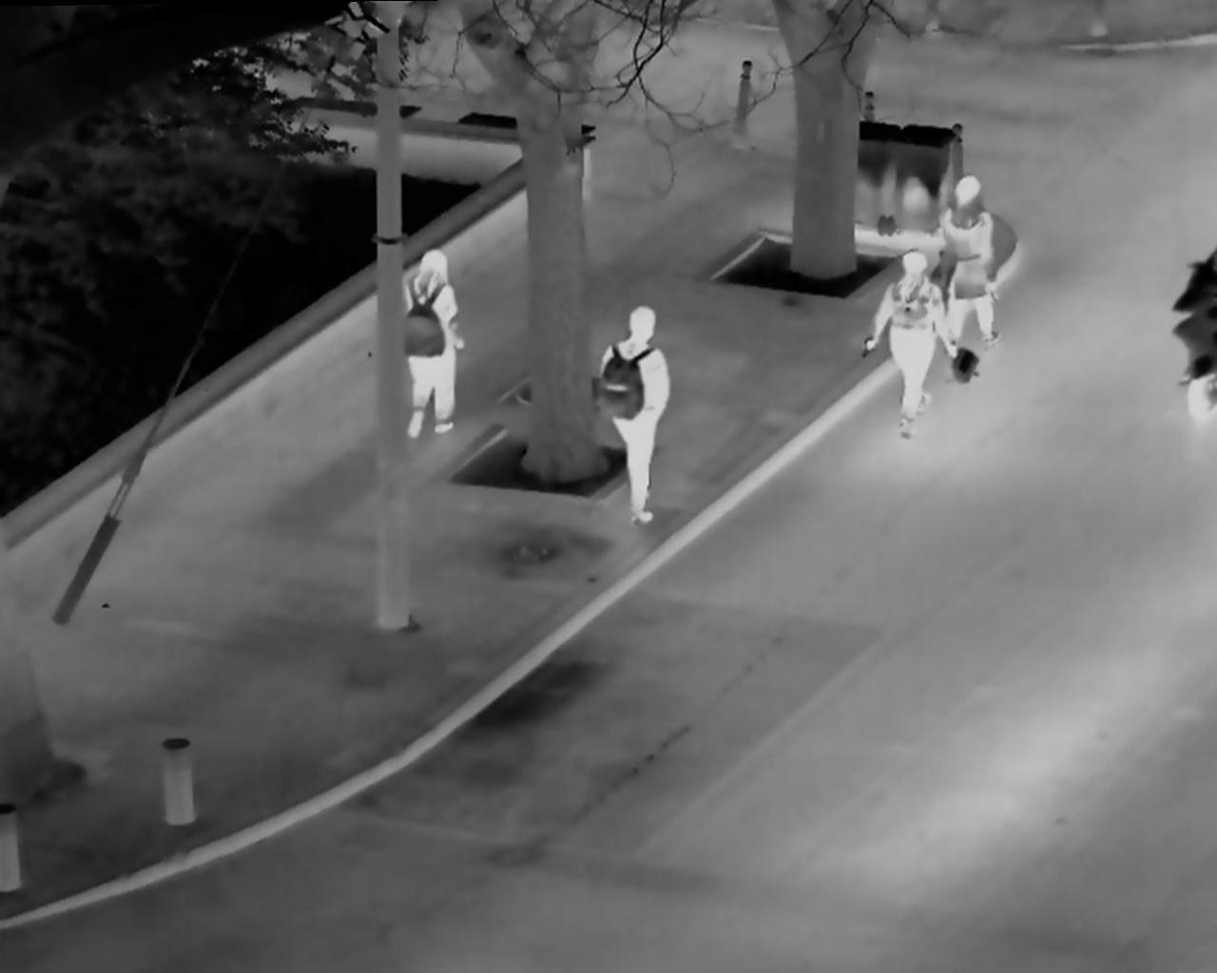person: (592, 294, 681, 538), (928, 164, 1029, 370), (871, 238, 966, 446), (402, 236, 473, 453)
